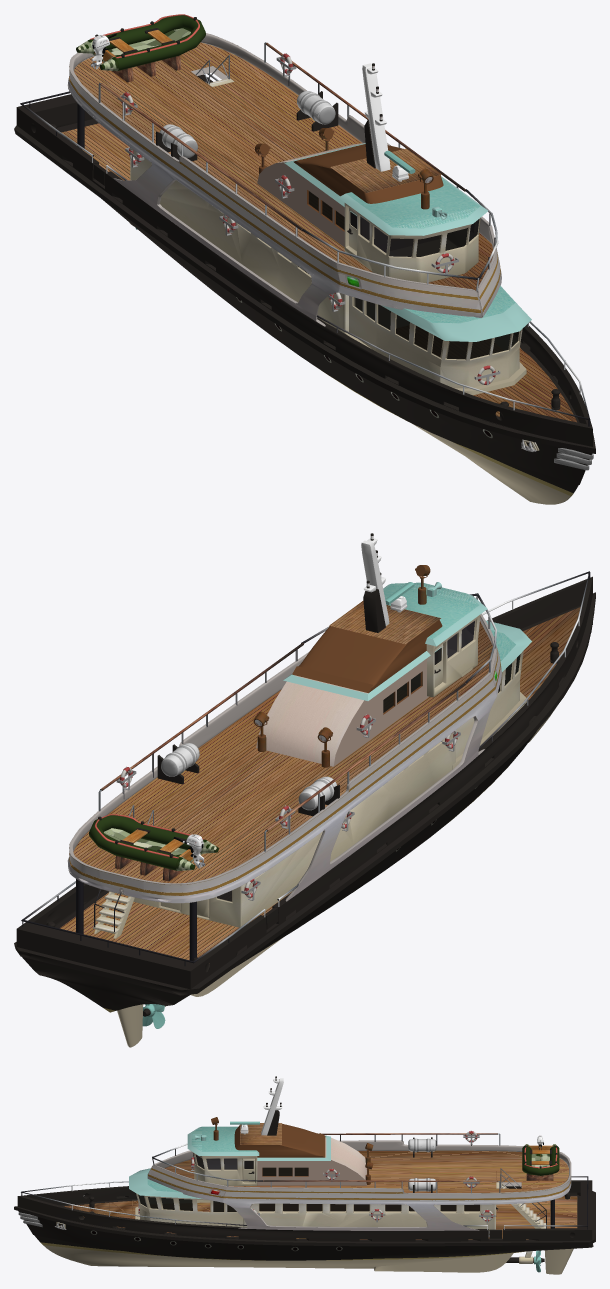
Rendered from boat-vex-yacht-v2.glb.
3 renders of one model, top to bottom at view 1: azimuth 30°, elevation 25°; view 2: azimuth 150°, elevation 25°; view 3: azimuth 270°, elevation 25°, orthographic. The views are drawn at different scales.
Visible parts, largest first — view 1: Object_31, Object_14, Object_30, Object_34, Object_11, Object_35, Object_33, Object_29, Object_12, Object_27, Object_15, Object_4 (+3 smaller); view 2: Object_31, Object_14, Object_30, Object_35, Object_4, Object_12, Object_34, Object_29, Object_11, Object_27, Object_15, Object_16 (+3 smaller); view 3: Object_31, Object_14, Object_34, Object_30, Object_35, Object_4, Object_11, Object_33, Object_29, Object_12, Object_27, Object_16 (+4 smaller).
Boxes of the visible parts, left/top/right/bottom form: Object_31: left=14, top=17, right=595, bottom=493; Object_14: left=61, top=42, right=576, bottom=422; Object_30: left=67, top=45, right=501, bottom=325; Object_34: left=130, top=203, right=571, bottom=504; Object_11: left=284, top=143, right=531, bottom=341; Object_35: left=130, top=78, right=348, bottom=332; Object_33: left=290, top=191, right=519, bottom=359; Object_29: left=69, top=33, right=496, bottom=326; Object_12: left=255, top=128, right=443, bottom=231; Object_27: left=20, top=42, right=590, bottom=426; Object_15: left=76, top=15, right=205, bottom=71; Object_4: left=257, top=143, right=364, bottom=247; Object_31: left=14, top=533, right=595, bottom=1016; Object_14: left=60, top=600, right=580, bottom=963; Object_30: left=67, top=646, right=501, bottom=903; Object_35: left=128, top=733, right=455, bottom=927; Object_4: left=256, top=658, right=428, bottom=766; Object_12: left=253, top=565, right=442, bottom=767; Object_34: left=93, top=615, right=555, bottom=1047; Object_29: left=69, top=614, right=500, bottom=900; Object_11: left=283, top=582, right=531, bottom=700; Object_27: left=21, top=571, right=590, bottom=966; Object_15: left=89, top=815, right=218, bottom=870; Object_16: left=116, top=718, right=460, bottom=900; Object_31: left=14, top=1076, right=595, bottom=1262; Object_14: left=64, top=1123, right=577, bottom=1239; Object_34: left=43, top=1152, right=573, bottom=1274; Object_30: left=147, top=1140, right=571, bottom=1230; Object_35: left=243, top=1182, right=532, bottom=1257; Object_4: left=257, top=1137, right=366, bottom=1185; Object_11: left=129, top=1121, right=330, bottom=1198; Object_33: left=138, top=1153, right=479, bottom=1211; Object_29: left=154, top=1140, right=571, bottom=1230; Object_12: left=211, top=1117, right=373, bottom=1184; Object_27: left=21, top=1133, right=588, bottom=1229; Object_16: left=138, top=1135, right=495, bottom=1223.
Bounding box in the file's own units: 22.7 × 39.29 × 105.
Materials: 29 (28 with a texture image).
